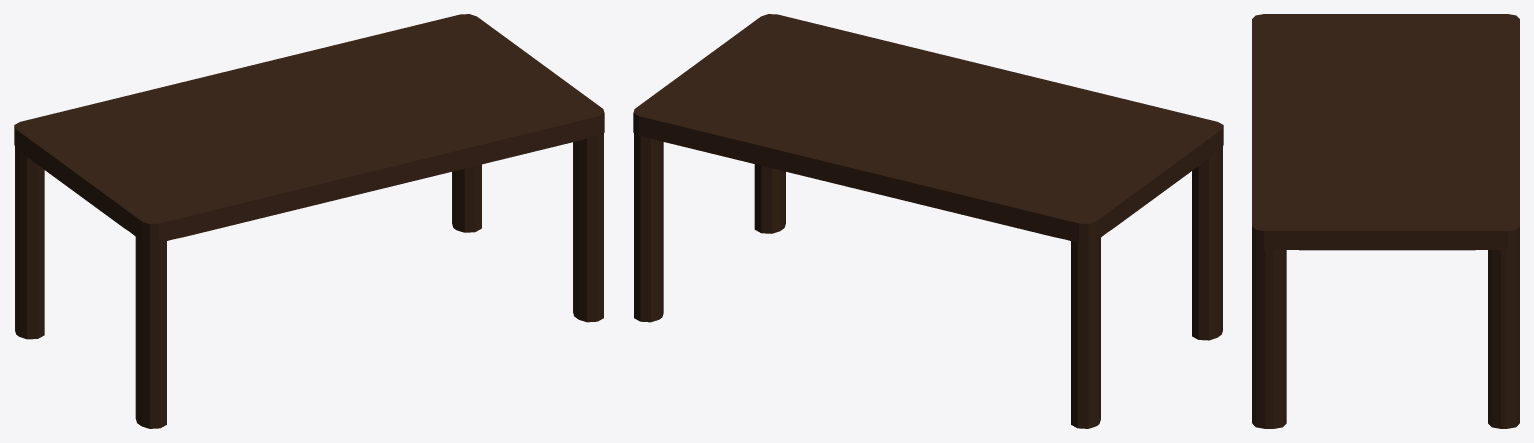
File: Table2.fbx
3 renders of one model, left to right at view 1: azimuth 30°, elevation 25°; view 2: azimuth 150°, elevation 25°; view 3: azimuth 270°, elevation 25°, orthographic. The views are drawn at different scales.
Parts seen in each view (by area): view 1: Cube; view 2: Cube; view 3: Cube.
Boxes of the visible parts, left/top/right/bottom form: Cube: left=14, top=14, right=604, bottom=428; Cube: left=633, top=14, right=1223, bottom=428; Cube: left=1252, top=14, right=1519, bottom=428.
Size of the model in its own units: 620 by 263 by 323.
